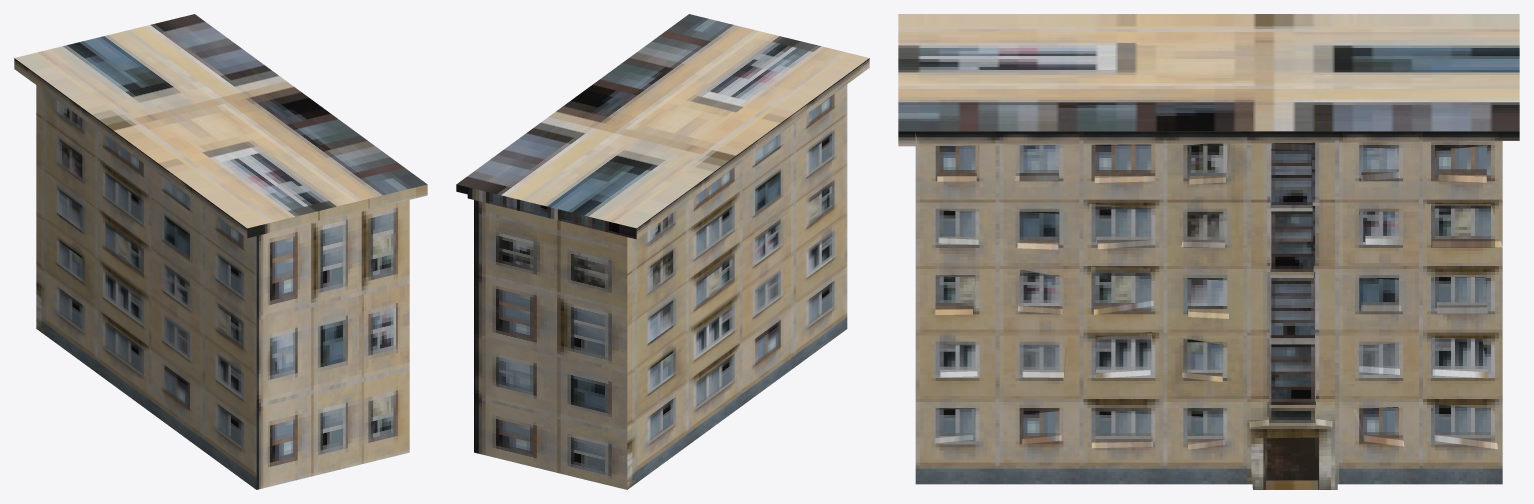
The model's file is House13.fbx.
3 renders of one model, left to right at view 1: azimuth 30°, elevation 25°; view 2: azimuth 150°, elevation 25°; view 3: azimuth 270°, elevation 25°, orthographic. The views are drawn at different scales.
Parts seen in each view (by area): view 1: Cube; view 2: Cube; view 3: Cube.
Boxes of the visible parts, x1,y1,x2,y2 form: Cube: (14,14,427,489); Cube: (456,14,869,489); Cube: (898,14,1519,489).
Size of the model in its own units: 538 by 770 by 1203.
1 material, 1 textured.
